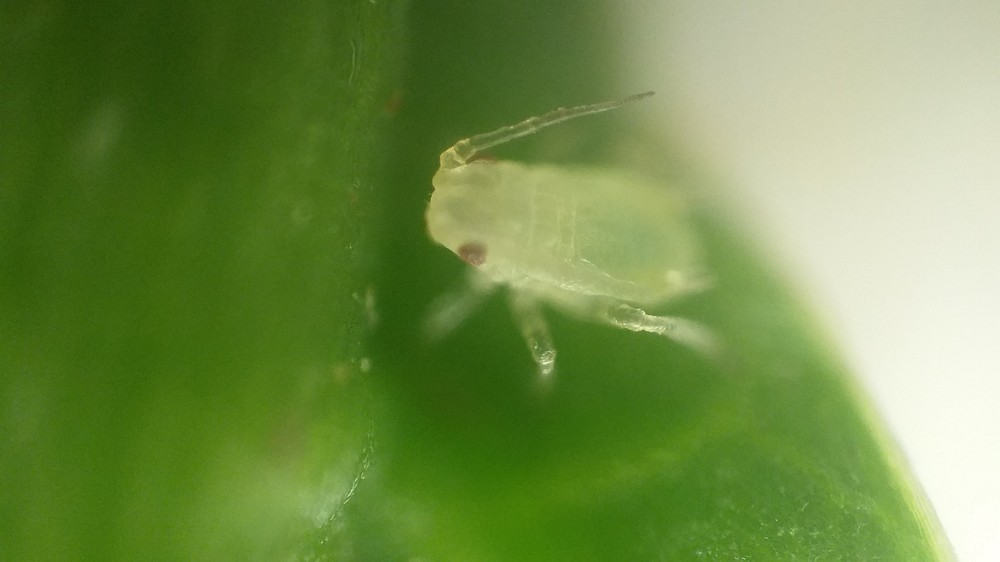Pulgon: (398, 80, 775, 403)
